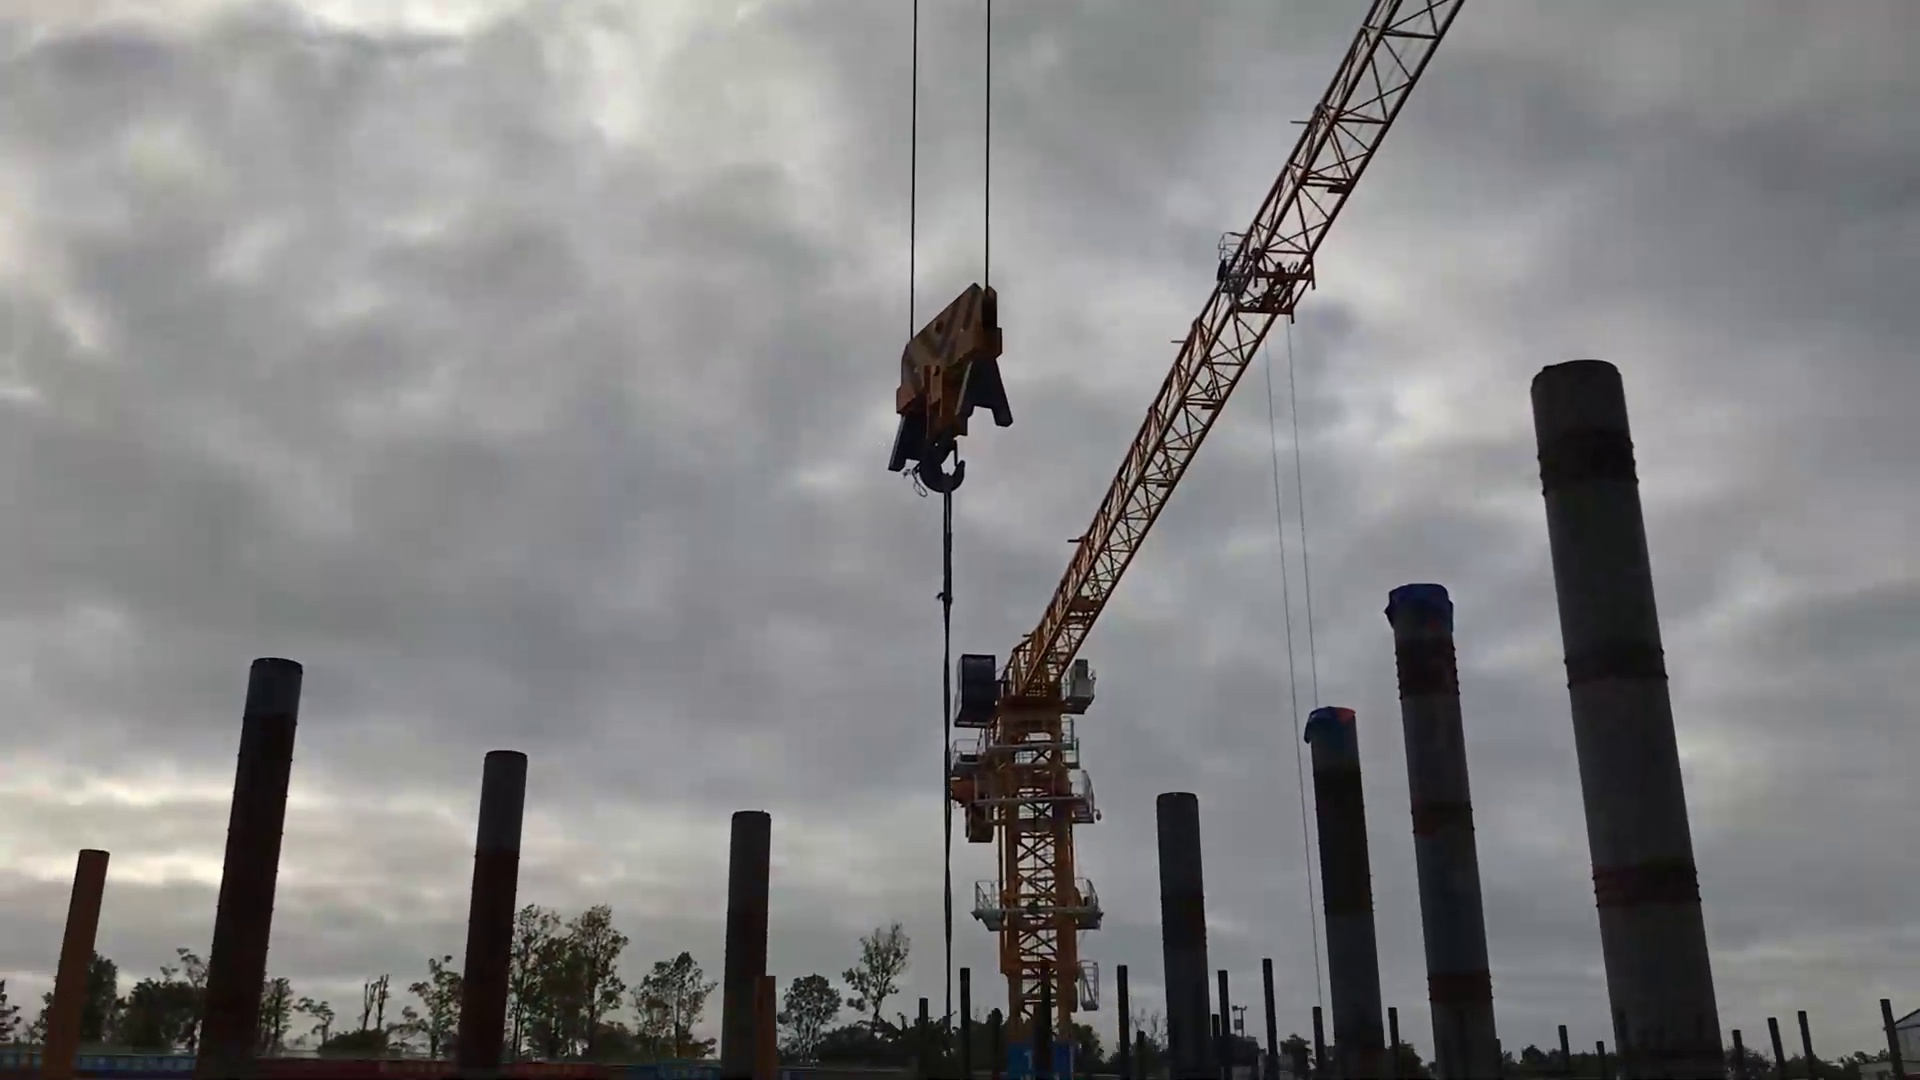hook: (878, 264, 1023, 513)
